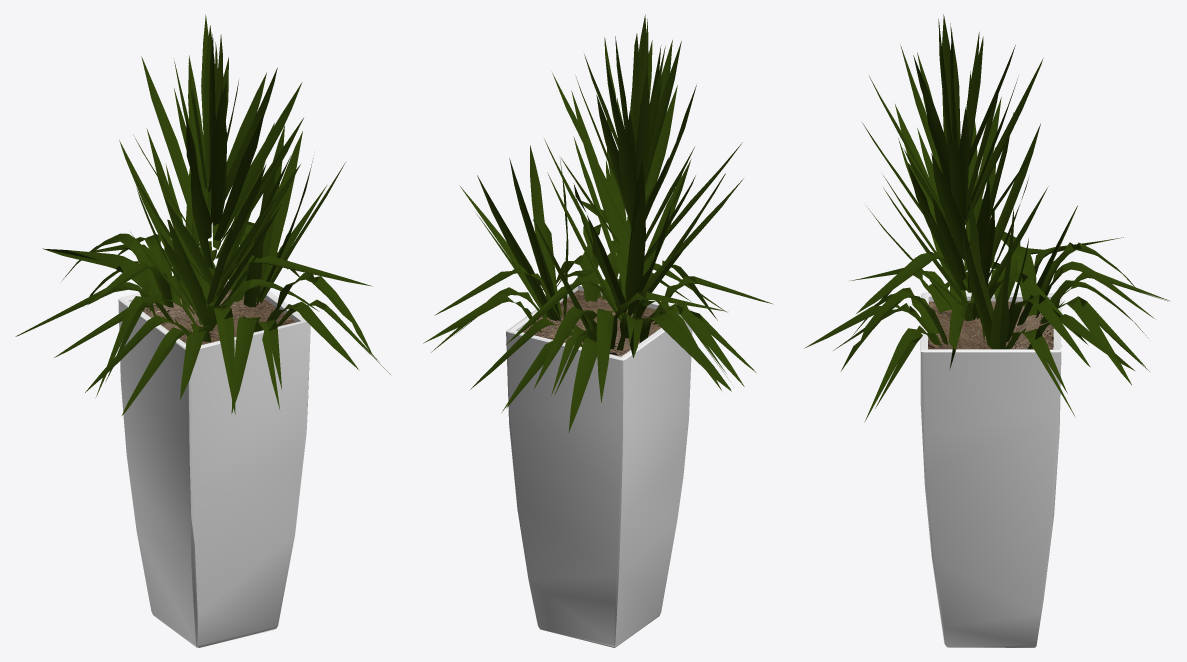
File: Plant 1.FBX
3 renders of one model, left to right at view 1: azimuth 30°, elevation 25°; view 2: azimuth 150°, elevation 25°; view 3: azimuth 270°, elevation 25°, orthographic. The views are drawn at different scales.
Parts seen in each view (by area): view 1: Plant 1; view 2: Plant 1; view 3: Plant 1.
Boxes of the visible parts, left/top/right/bottom form: Plant 1: left=15, top=14, right=390, bottom=647; Plant 1: left=423, top=14, right=773, bottom=647; Plant 1: left=804, top=14, right=1169, bottom=647.
Size of the model in its own units: 85.21 by 163 by 90.36.
Materials: 2 (1 with a texture image).
